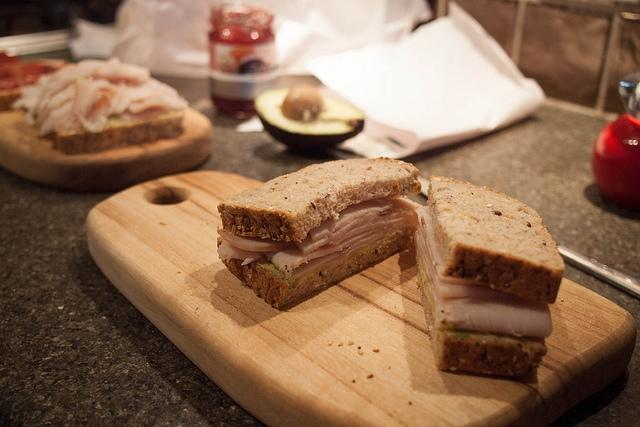avocado: (254, 85, 363, 150)
